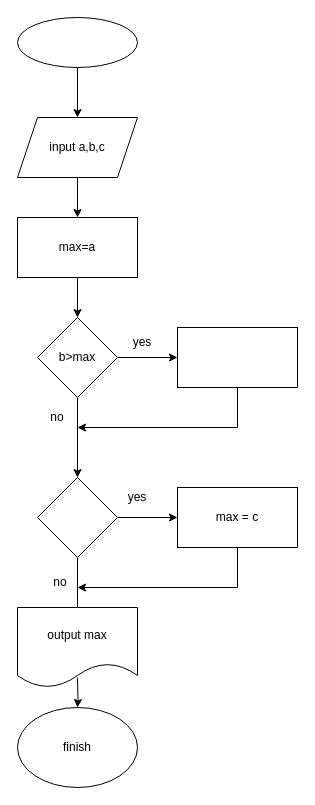
This 315x805 diagram has some shape labels left out. Each missing label, with the centre of its shape:
c>max: the point at 77,517
max = b: the point at 237,357
Start: the point at 77,42
